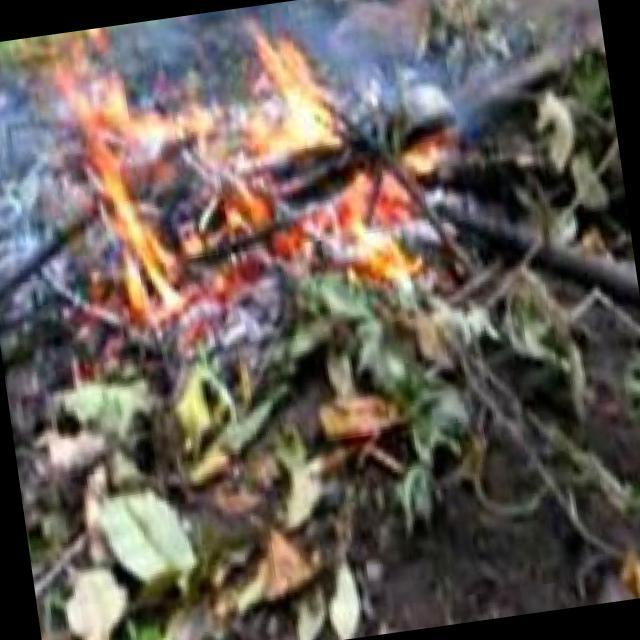Fire: (52, 1, 428, 322)
